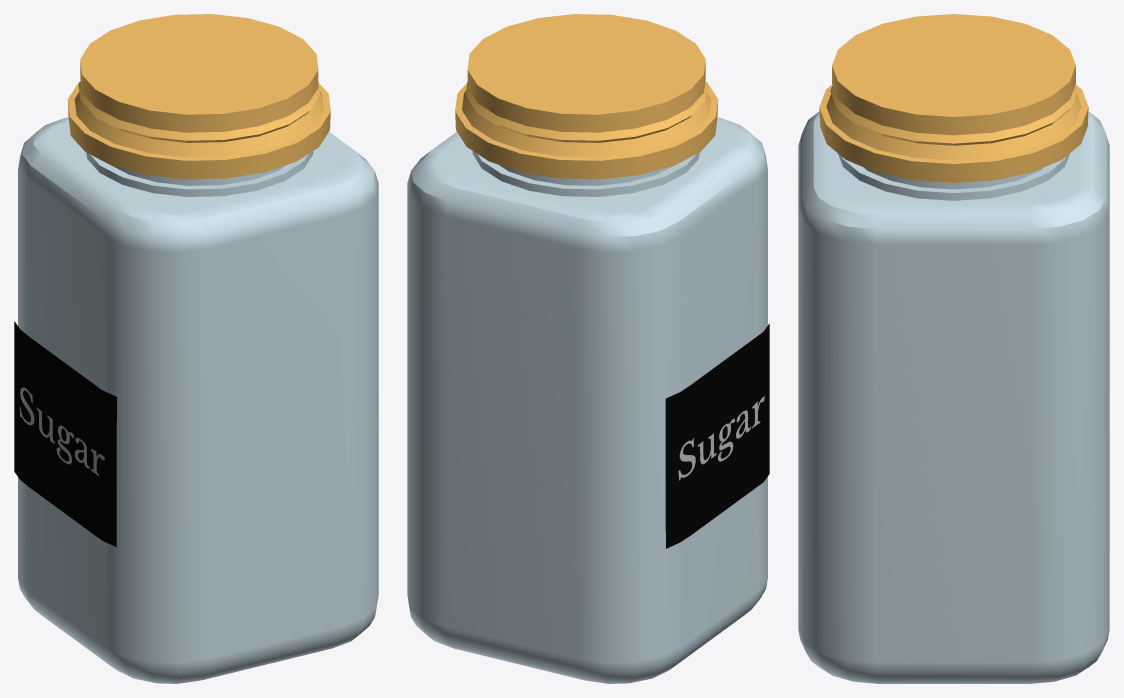
Rendered from SM_GlassJar.fbx.
3 renders of one model, left to right at view 1: azimuth 30°, elevation 25°; view 2: azimuth 150°, elevation 25°; view 3: azimuth 270°, elevation 25°, orthographic.
Visible parts, largest first — view 1: Jar; view 2: Jar; view 3: Jar.
Boxes of the visible parts, left/top/right/bottom form: Jar: left=14, top=14, right=378, bottom=683; Jar: left=407, top=14, right=769, bottom=683; Jar: left=798, top=14, right=1109, bottom=683.
Size of the model in its own units: 375 by 741 by 370.
Materials: 1 (1 with a texture image).
